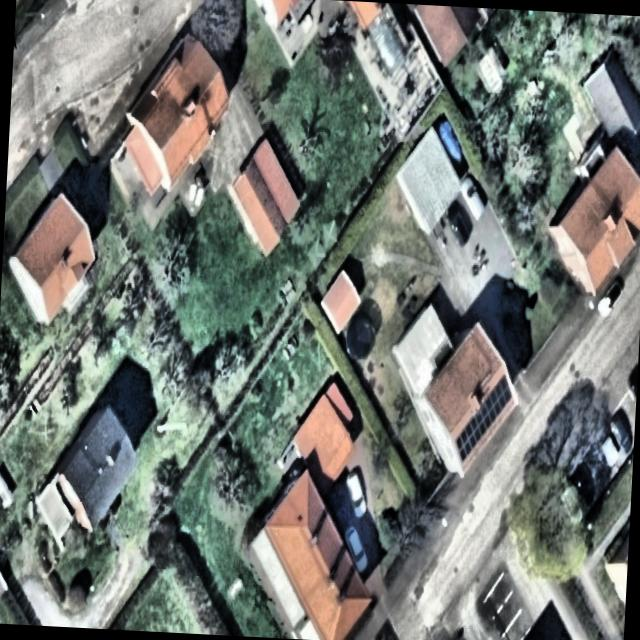roof_pv: (481, 372, 517, 433), (452, 413, 484, 468)
